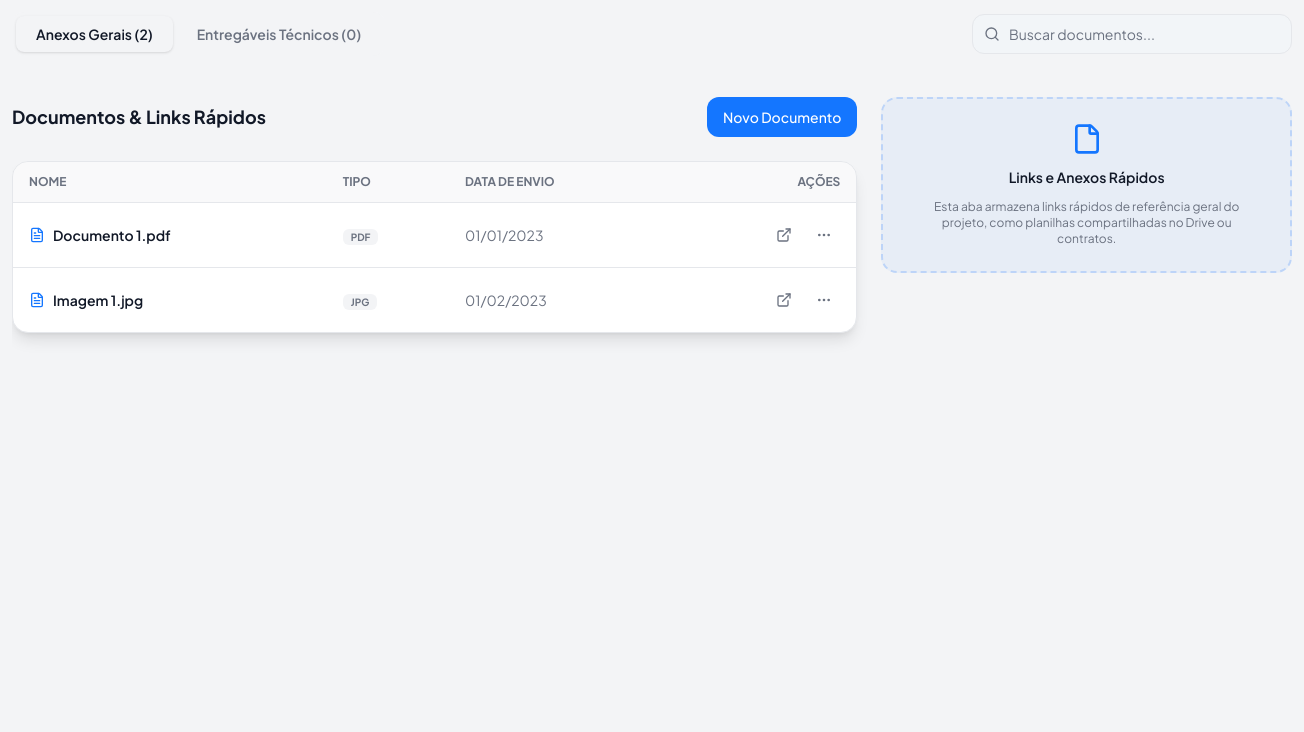
Test: ProjectDocumentsTab › shows add document form when button clicked
The image size is (1304, 732).
Click the button "Novo Documento".
click(782, 117)  # box [707,97,857,137]
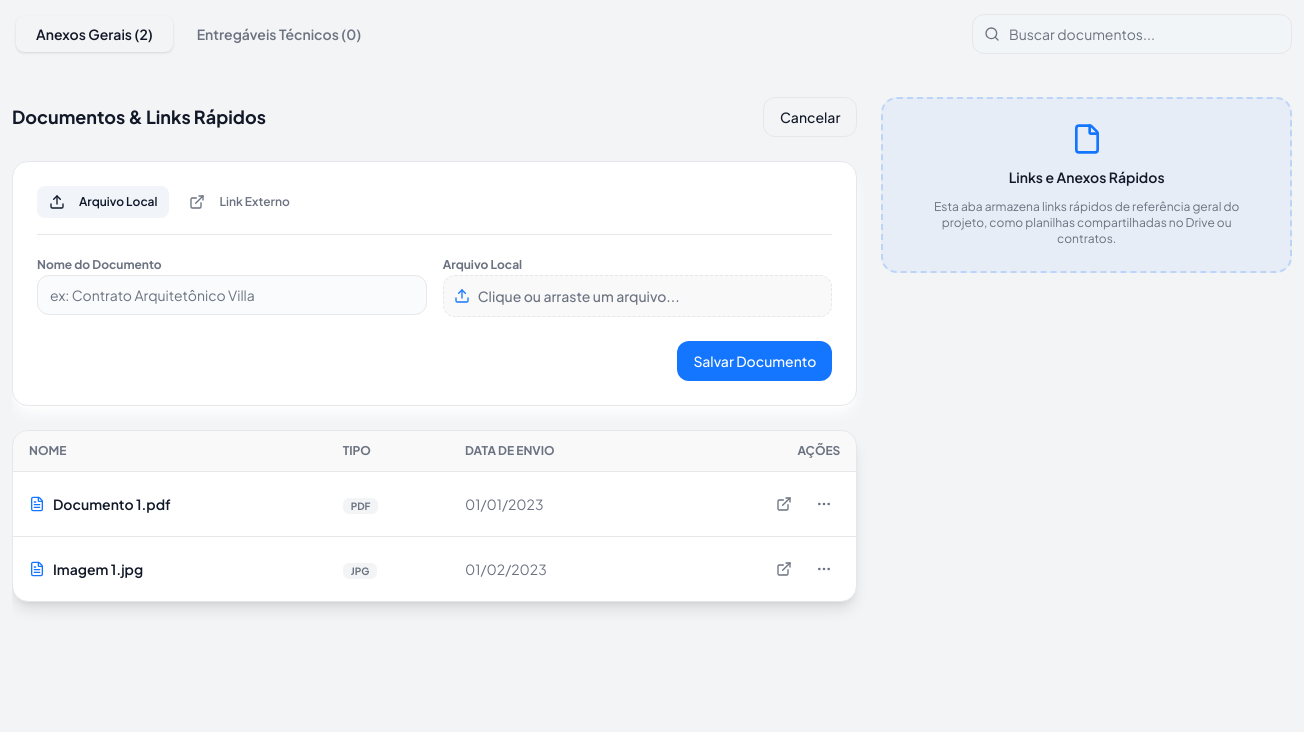
Now the field with placeholder "ex: Contrato Arquitetônico Villa" is shown, box [37,275,427,315]
